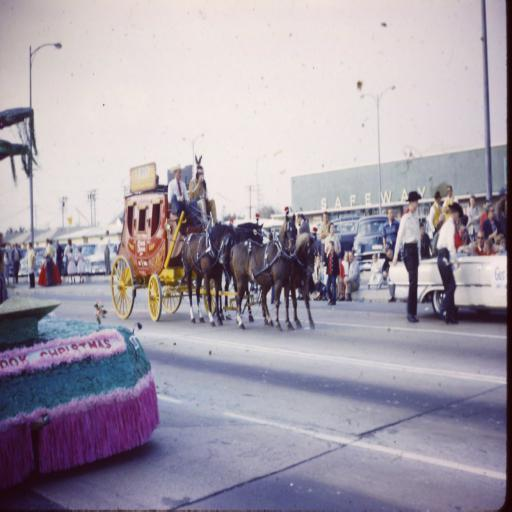horse: (228, 214, 298, 331), (259, 233, 319, 331), (180, 224, 235, 327), (214, 220, 266, 319)
